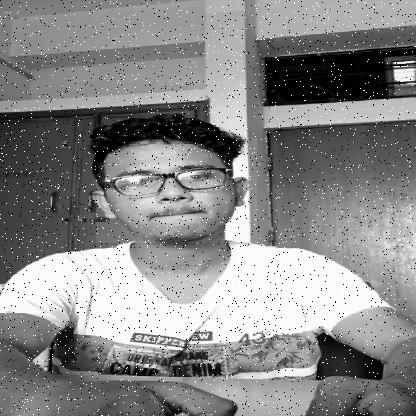Normal: (96, 138, 257, 243)
